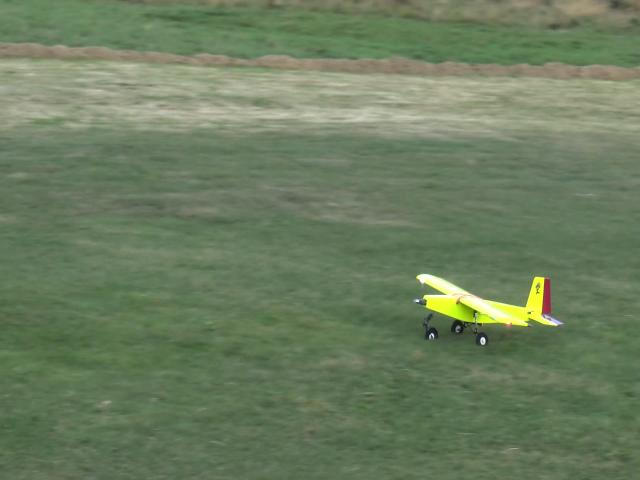plane: (415, 270, 562, 347)
